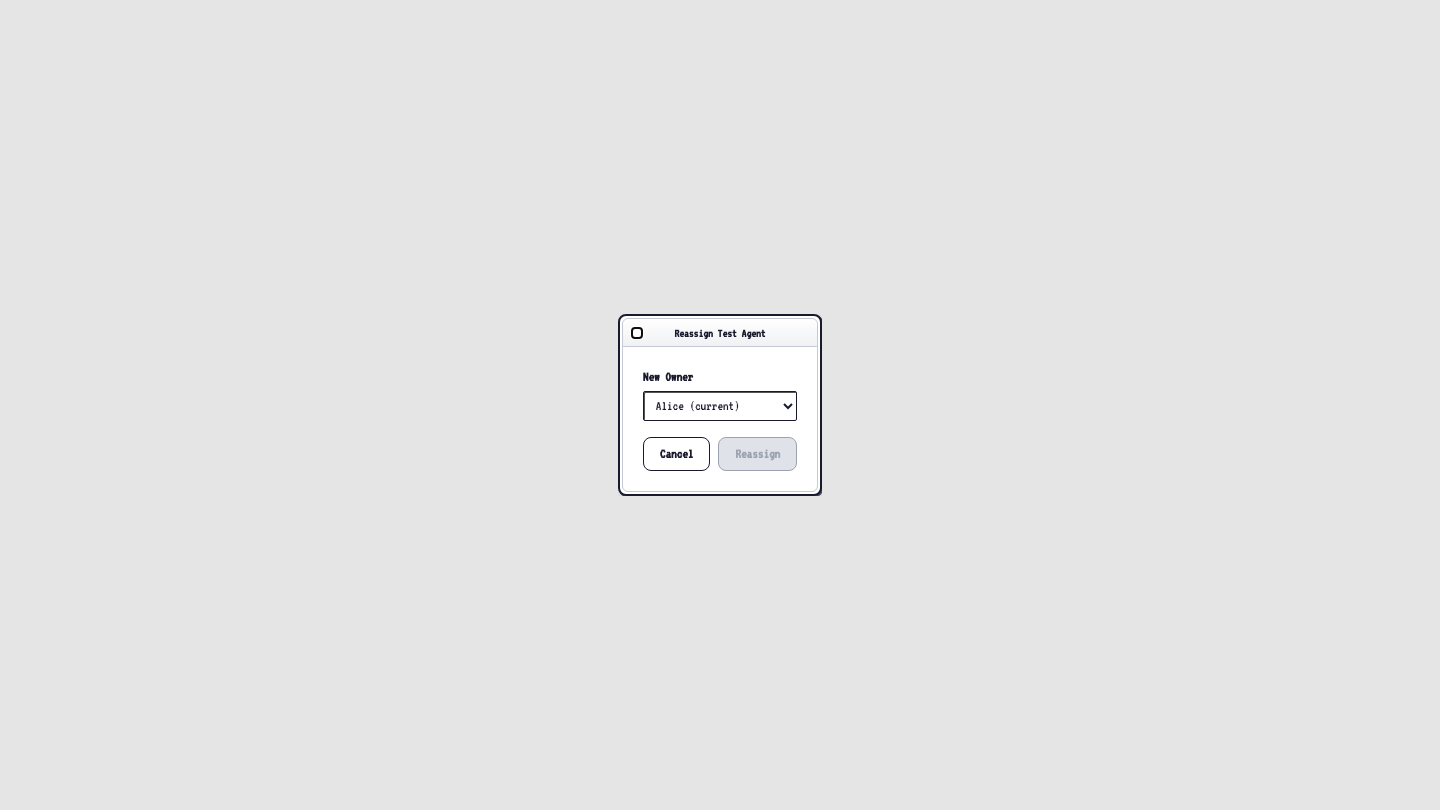
Scenario: ReassignOwnerModal › shows error message on failed reassignment
The image size is (1440, 810).
Select "Bob" in the dropdown labelled "New Owner": (720, 406) [643,391,797,421]
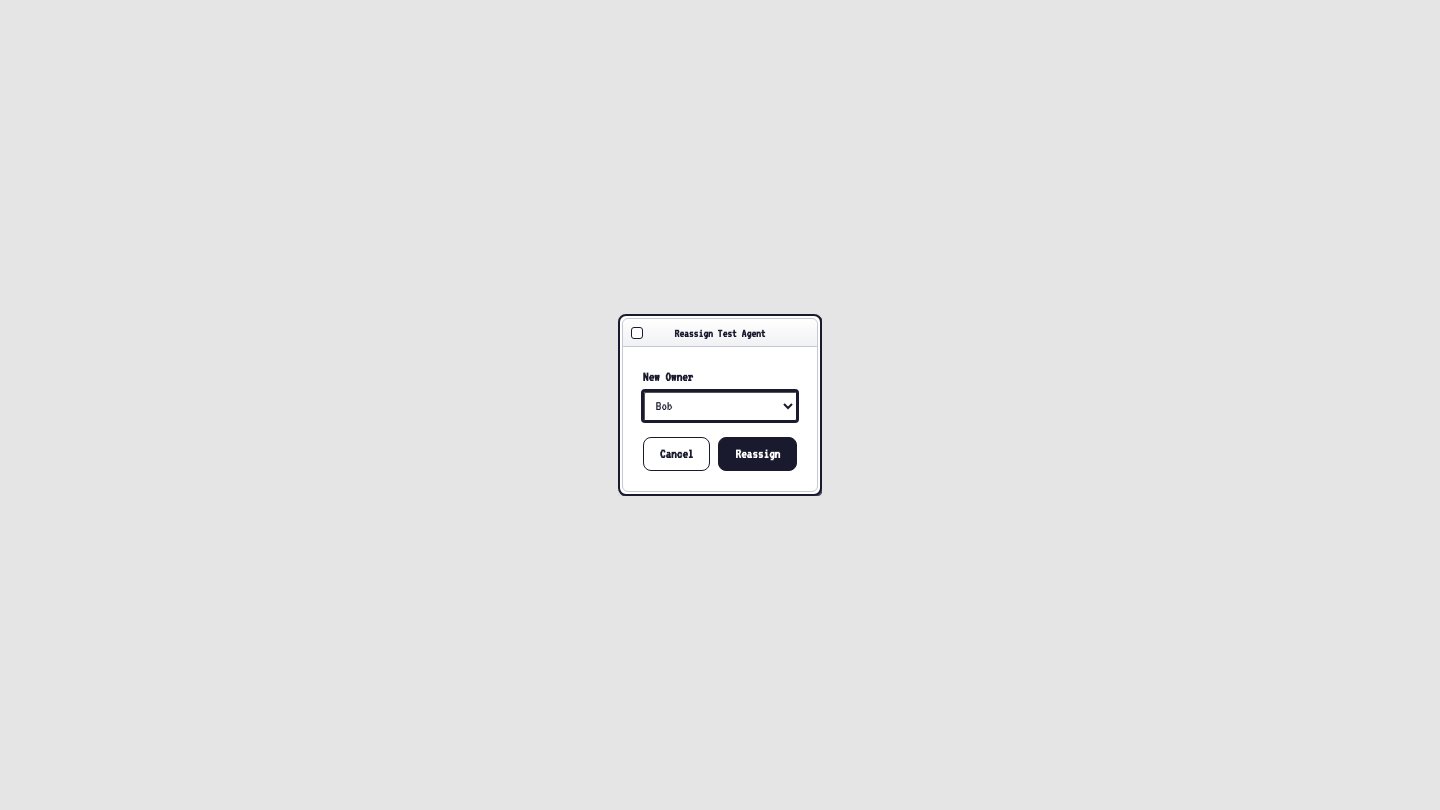
Click the button "Reassign": (758, 454) [718,437,797,471]
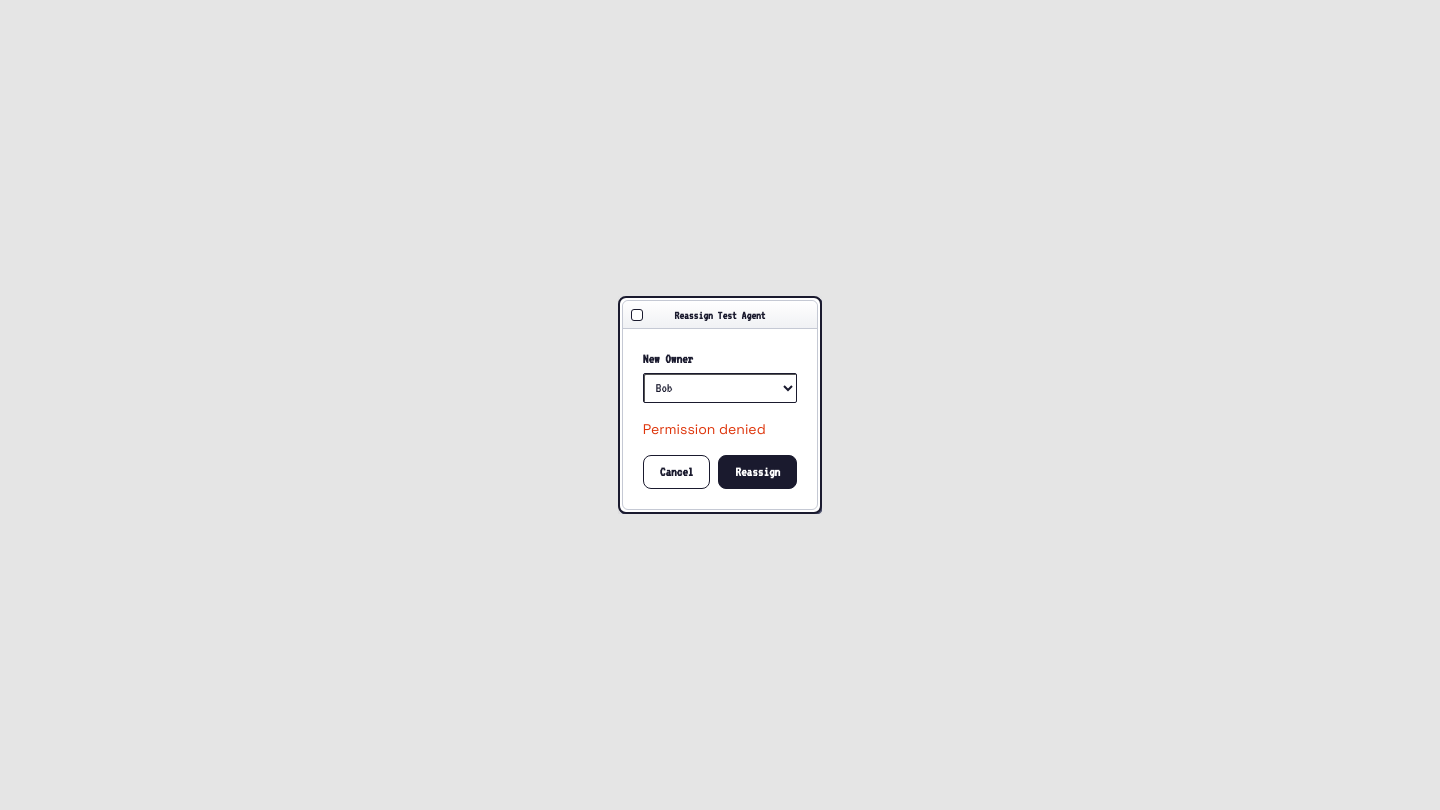
Result: the text "Permission denied" is shown at [643,420,766,438]
